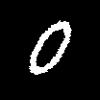chain: (29, 21, 70, 74)
